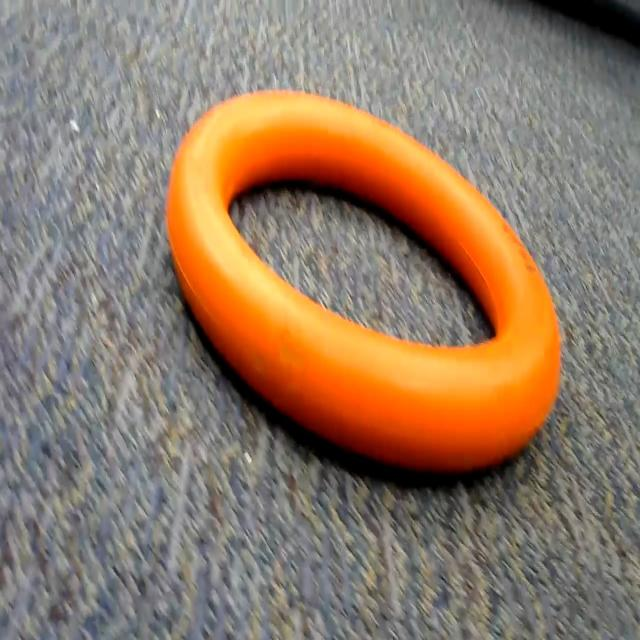note: (159, 61, 574, 494)
